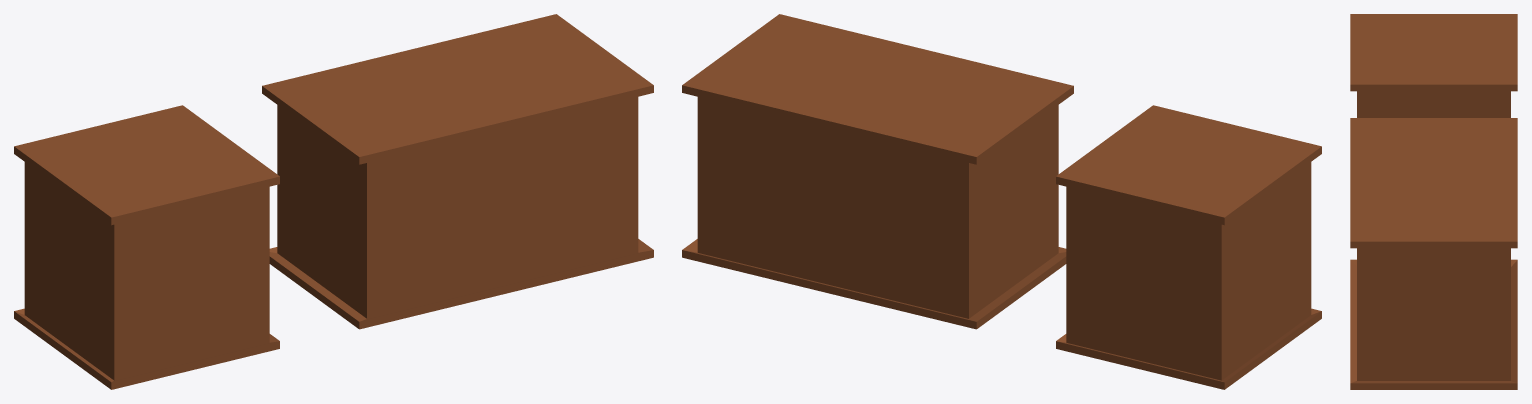
The model's file is crate.glb.
3 views of the same model, side by side, from view 1: azimuth 30°, elevation 25°; view 2: azimuth 150°, elevation 25°; view 3: azimuth 270°, elevation 25° (orthographic). The views are drawn at different scales.
Visible parts, largest first — view 1: Cube.001, Cube; view 2: Cube.001, Cube; view 3: Cube.001, Cube.
Boxes of the visible parts, left/top/right/bottom form: Cube.001: left=262, top=14, right=653, bottom=329; Cube: left=14, top=105, right=279, bottom=389; Cube.001: left=682, top=14, right=1073, bottom=329; Cube: left=1056, top=105, right=1321, bottom=389; Cube.001: left=1350, top=118, right=1517, bottom=389; Cube: left=1350, top=14, right=1517, bottom=117.
Size of the model in its own units: 3.61 by 1.1 by 1.12.
